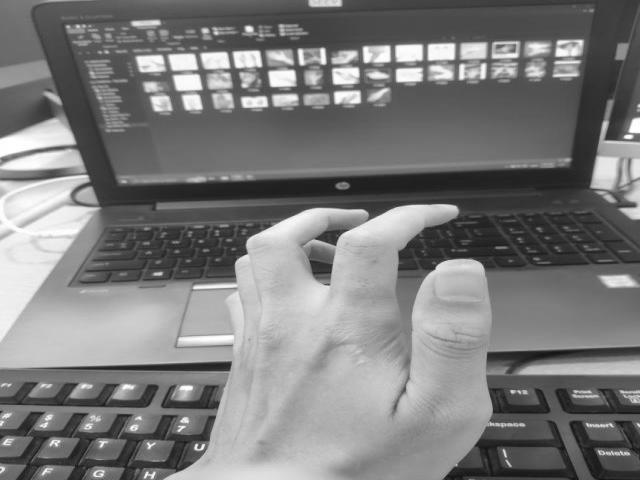not-gloved: (176, 204, 494, 480)
